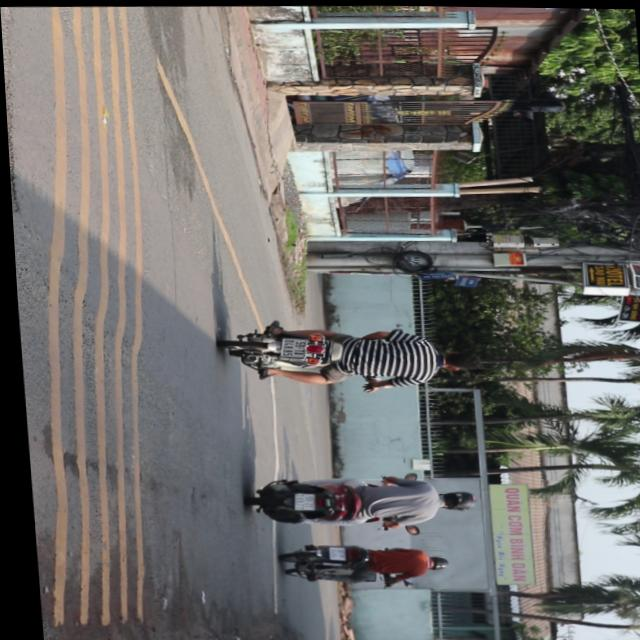helmet: (434, 485, 472, 509)
licenseplate: (214, 312, 481, 390), (240, 468, 474, 528)
motorcyclist: (435, 346, 477, 369)
nohelmet: (277, 335, 304, 355), (289, 491, 308, 507)
